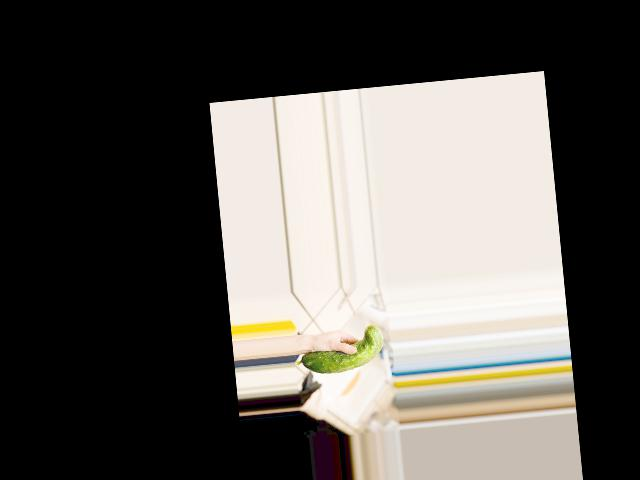cucumber: (292, 324, 386, 377)
